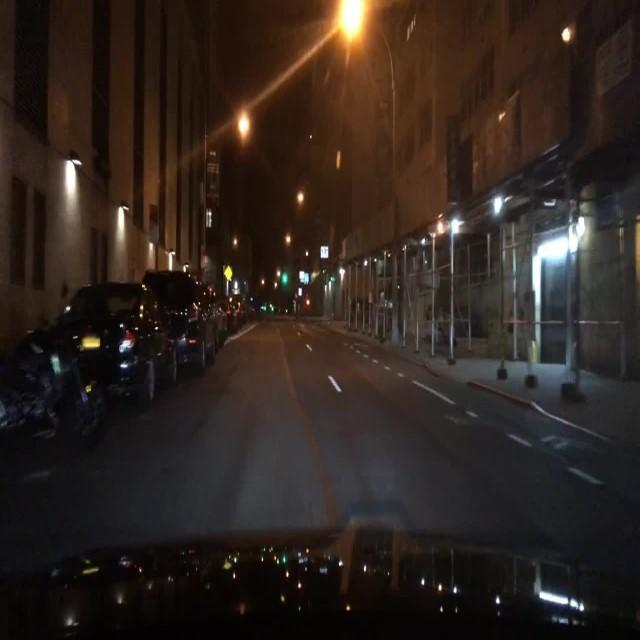normal: (55, 278, 177, 404), (142, 267, 225, 376)
